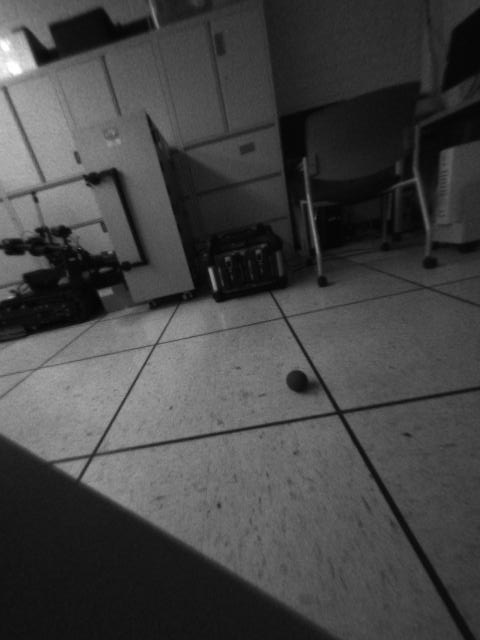dogtoy: (279, 363, 316, 396)
